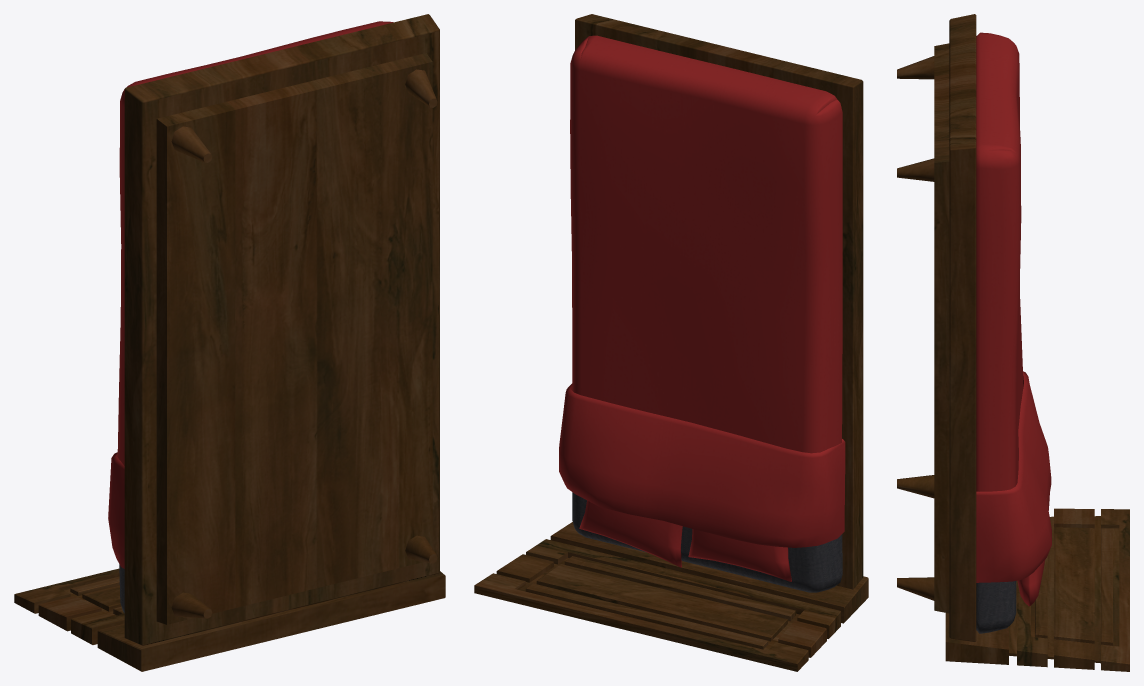
File: mH_SingleBed.fbx
The picture shows the model from 3 angles, left to right: view 1: azimuth 30°, elevation 25°; view 2: azimuth 150°, elevation 25°; view 3: azimuth 270°, elevation 25°; orthographic projection. The views are drawn at different scales.
Visible parts, largest first — view 1: mH_SingleBed; view 2: mH_SingleBed; view 3: mH_SingleBed.
Boxes of the visible parts, <box> form: mH_SingleBed: <box>14,14,445,671</box>; mH_SingleBed: <box>474,14,868,671</box>; mH_SingleBed: <box>897,14,1129,671</box>.
Size of the model in its own units: 165 by 256 by 105.
